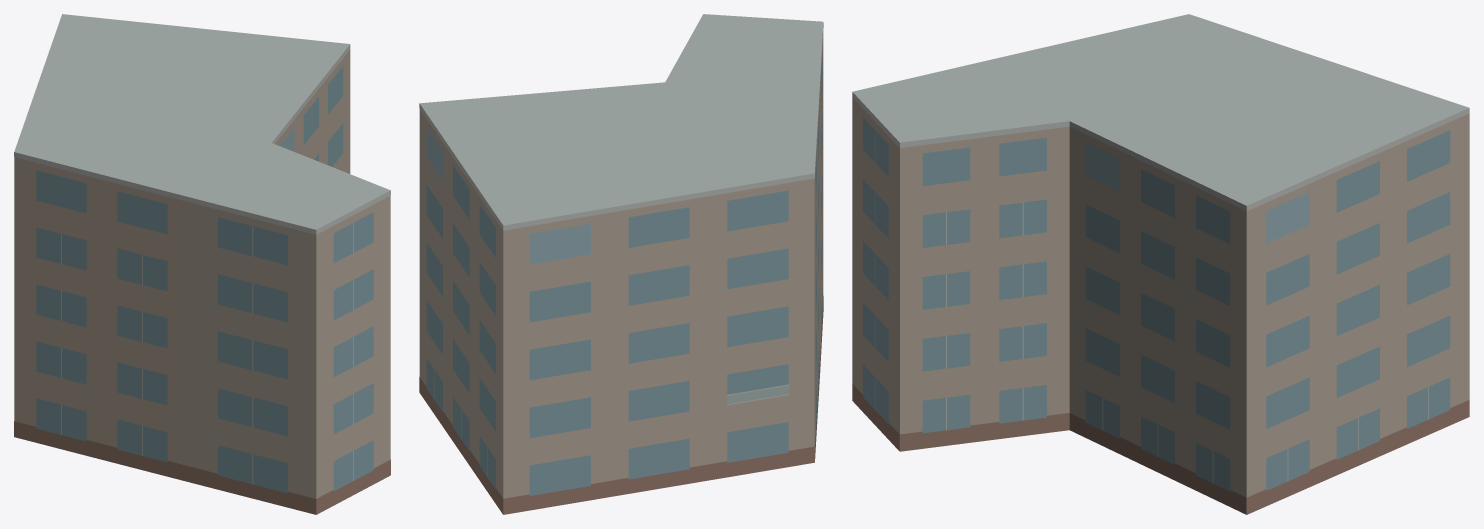
Rendered from survey-upis-32509726.glb.
The picture shows the model from 3 angles, left to right: view 1: azimuth 30°, elevation 25°; view 2: azimuth 150°, elevation 25°; view 3: azimuth 270°, elevation 25°; orthographic projection. The views are drawn at different scales.
Parts seen in each view (by area): view 1: survey-upis-32509726.tmp; view 2: survey-upis-32509726.tmp; view 3: survey-upis-32509726.tmp.
Part boxes in pixels (left/top/right/bottom): survey-upis-32509726.tmp: left=14, top=14, right=390, bottom=514; survey-upis-32509726.tmp: left=419, top=14, right=823, bottom=514; survey-upis-32509726.tmp: left=852, top=14, right=1469, bottom=514.
Size of the model in its own units: 18.39 by 13.8 by 25.
